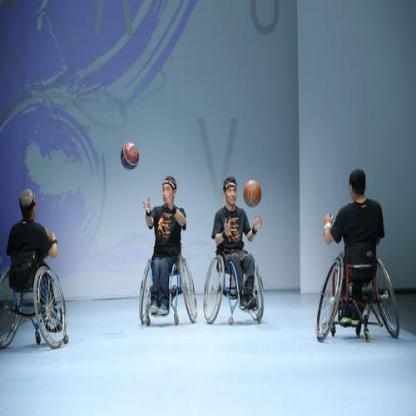wheelchair: (317, 169, 400, 349), (0, 188, 70, 360), (204, 179, 268, 330), (137, 174, 197, 335)
